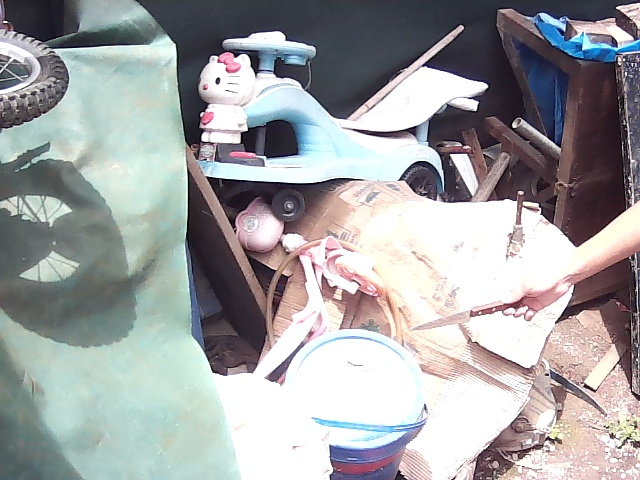cuchillo: (409, 294, 506, 337)
